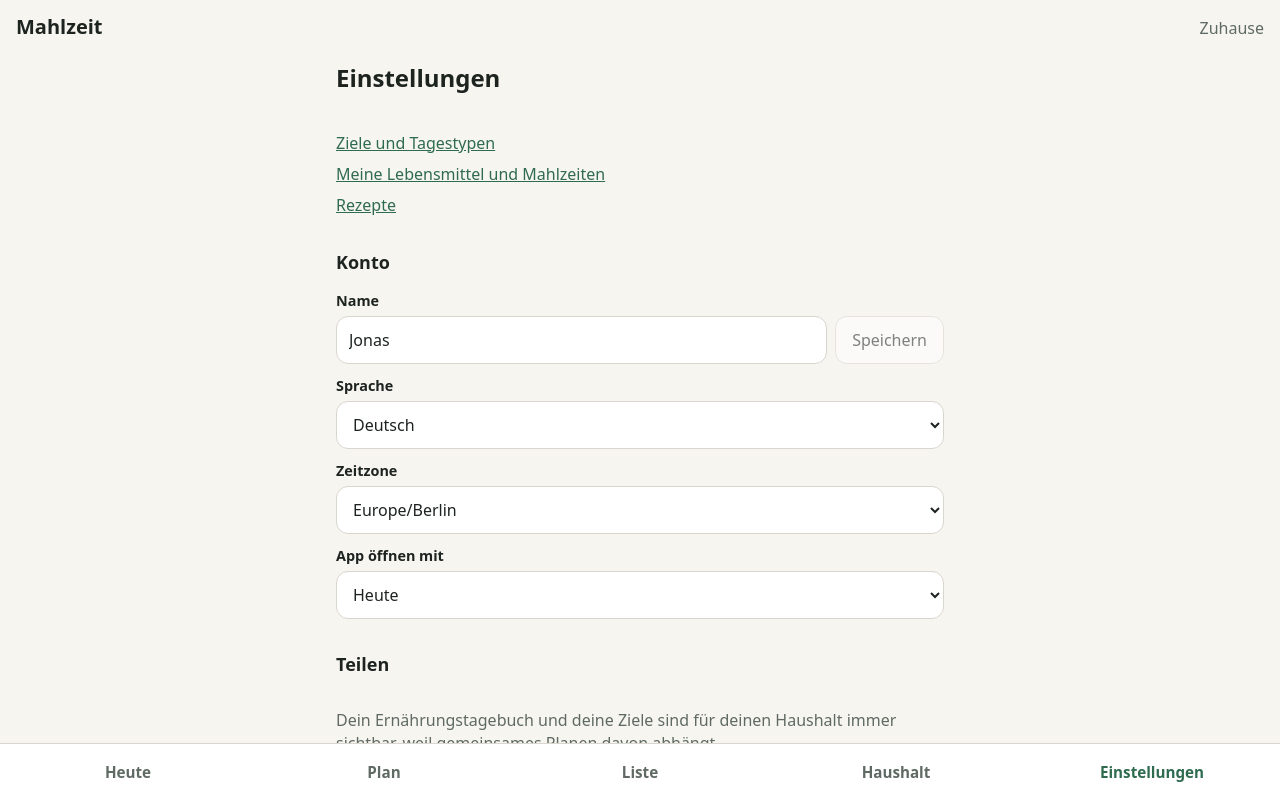
settings › switches the language for this user and the whole UI
The width and height of the screenshot is (1280, 800).
Check: the heading "Einstellungen" is shown, box [336, 61, 500, 94]
Select "Nederlands" in the dropdown labelled "Sprache" at (640, 425), box [336, 401, 944, 449]
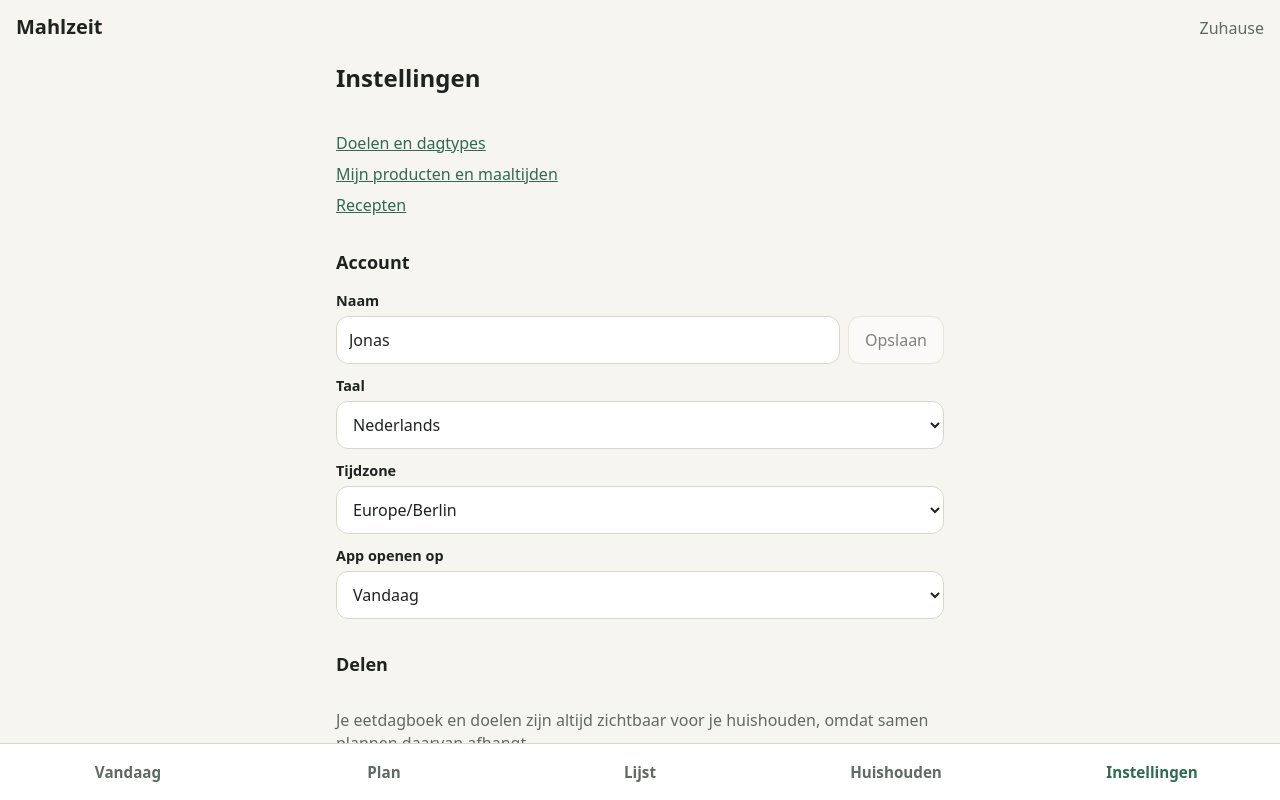
Check: the heading "Instellingen" is shown, box [336, 61, 480, 94]
Check: the link "Vandaag" is shown, box [95, 762, 161, 782]
